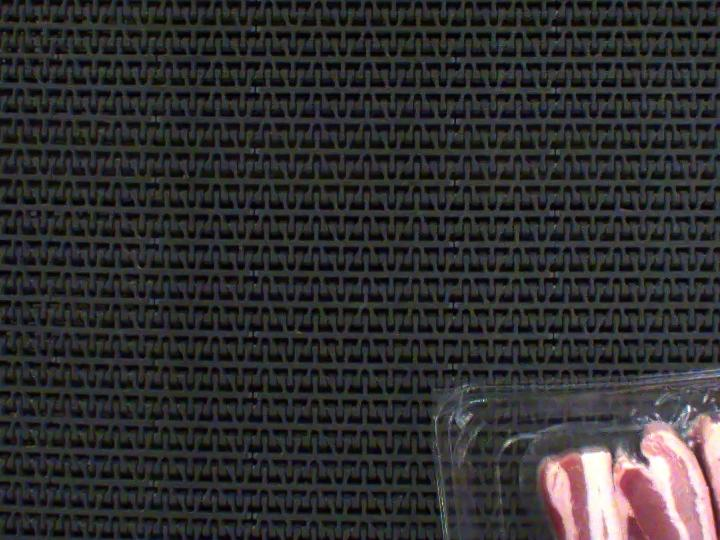unsealed: (513, 347, 720, 490)
